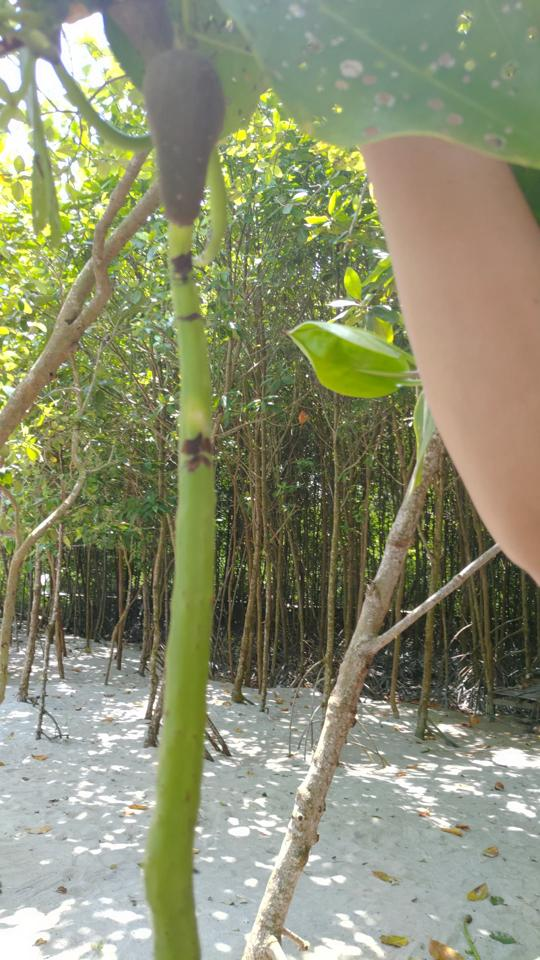setengah matang: (124, 38, 235, 958)
